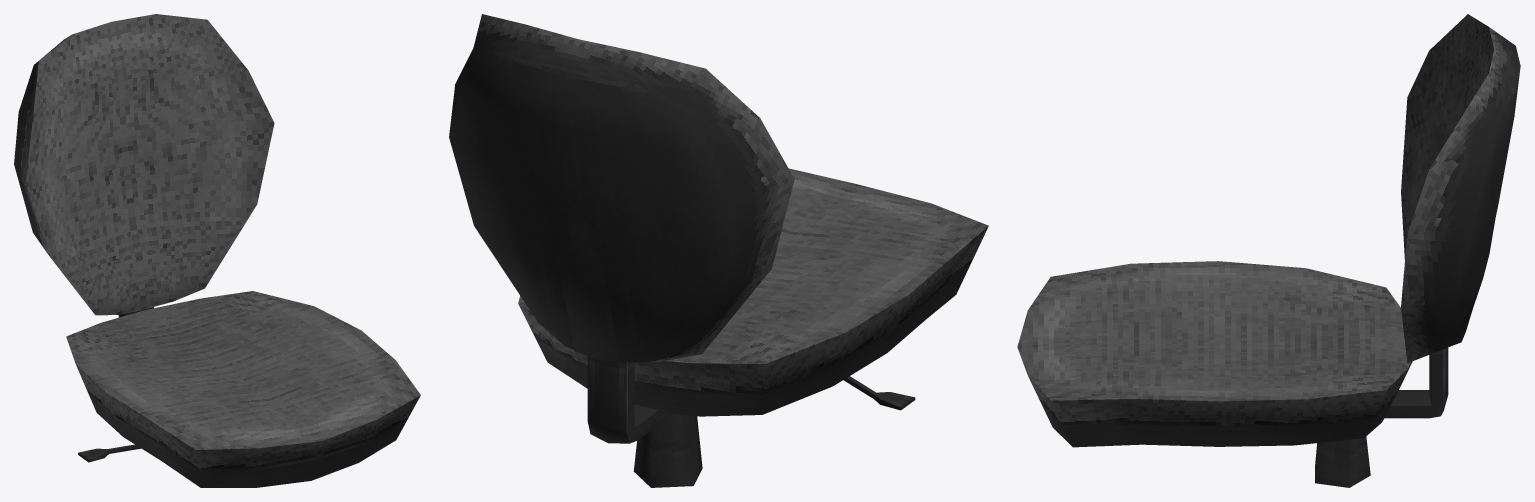
The model's file is ChairGraySeat.glb.
3 renders of one model, left to right at view 1: azimuth 30°, elevation 25°; view 2: azimuth 150°, elevation 25°; view 3: azimuth 270°, elevation 25°, orthographic. The views are drawn at different scales.
Parts seen in each view (by area): view 1: chair seat.031; view 2: chair seat.031; view 3: chair seat.031.
Boxes of the visible parts, <box> form: chair seat.031: <box>14,14,420,487</box>; chair seat.031: <box>449,14,988,487</box>; chair seat.031: <box>1017,14,1520,487</box>.
Bounding box in the file's own units: 0.4627 × 0.6291 × 0.6729.
Materials: 1 (1 with a texture image).
